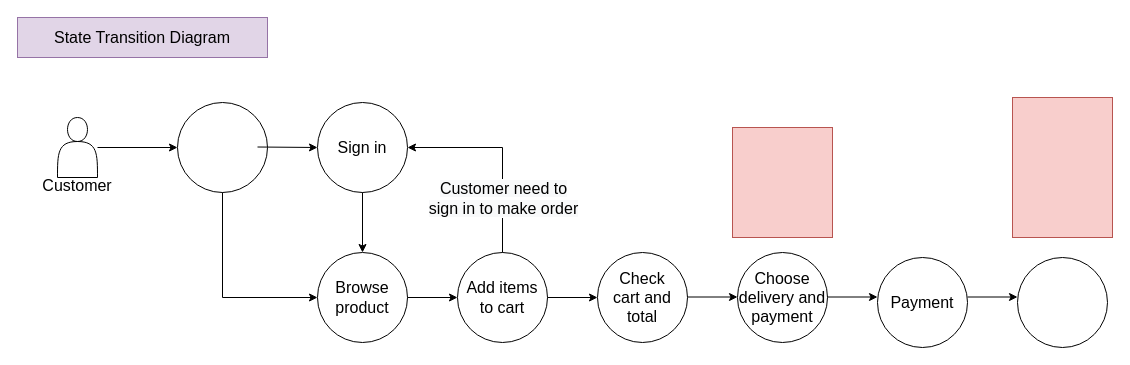
Image size: 1130x365. Some labels were removed from this diagram. The shapes that lost their labels are listed below. From the top down, each one's centre as x and y in pixels, then its label:
At (222,147): "Enter the website".
At (1062,167): "After received order, if have any defective can get refund 50% within 7 days".
At (782,182): "If order's price over 1,800 THB, get free shipping".
At (1062,302): "Delivery".
